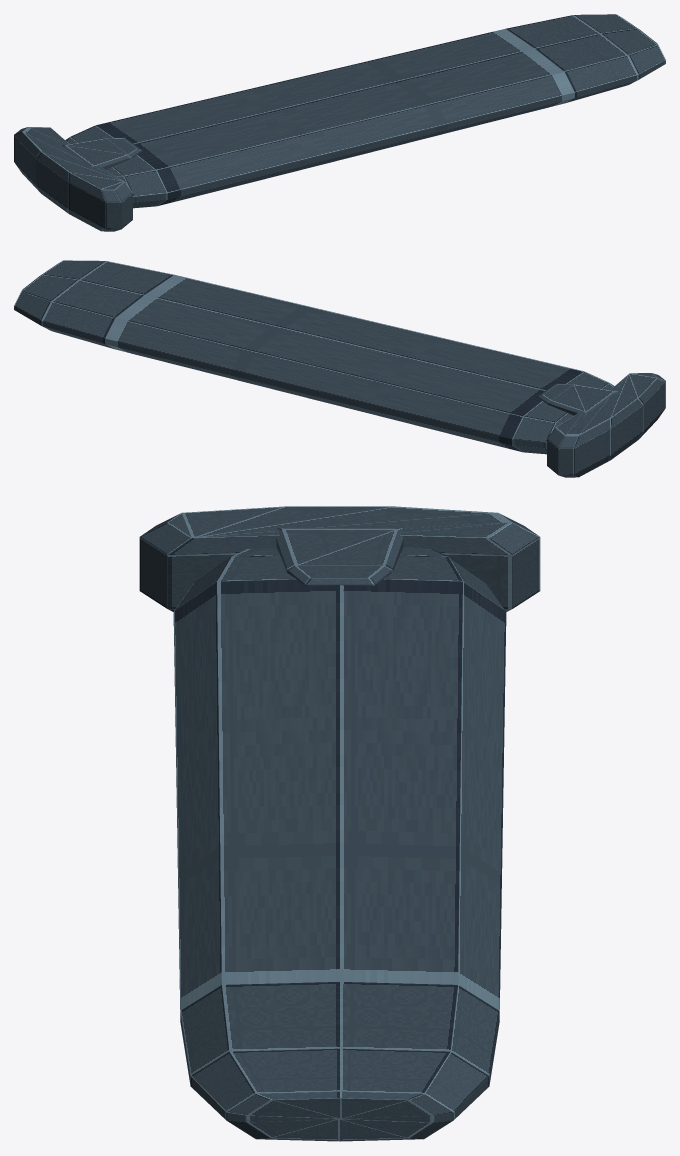
Rendered from bench_xuanyue_zhenshan_sword_2.obj.
3 renders of one model, top to bottom at view 1: azimuth 30°, elevation 25°; view 2: azimuth 150°, elevation 25°; view 3: azimuth 270°, elevation 25°, orthographic. The views are drawn at different scales.
Visible parts, largest first — view 1: geometry; view 2: geometry; view 3: geometry.
Boxes of the visible parts, x1=… form: geometry: x1=14, y1=14, x2=665, y2=231; geometry: x1=14, y1=260, x2=665, y2=477; geometry: x1=139, y1=506, x2=540, y2=1141.
Size of the model in its own units: 0.75 by 0.0524 by 0.2214.
